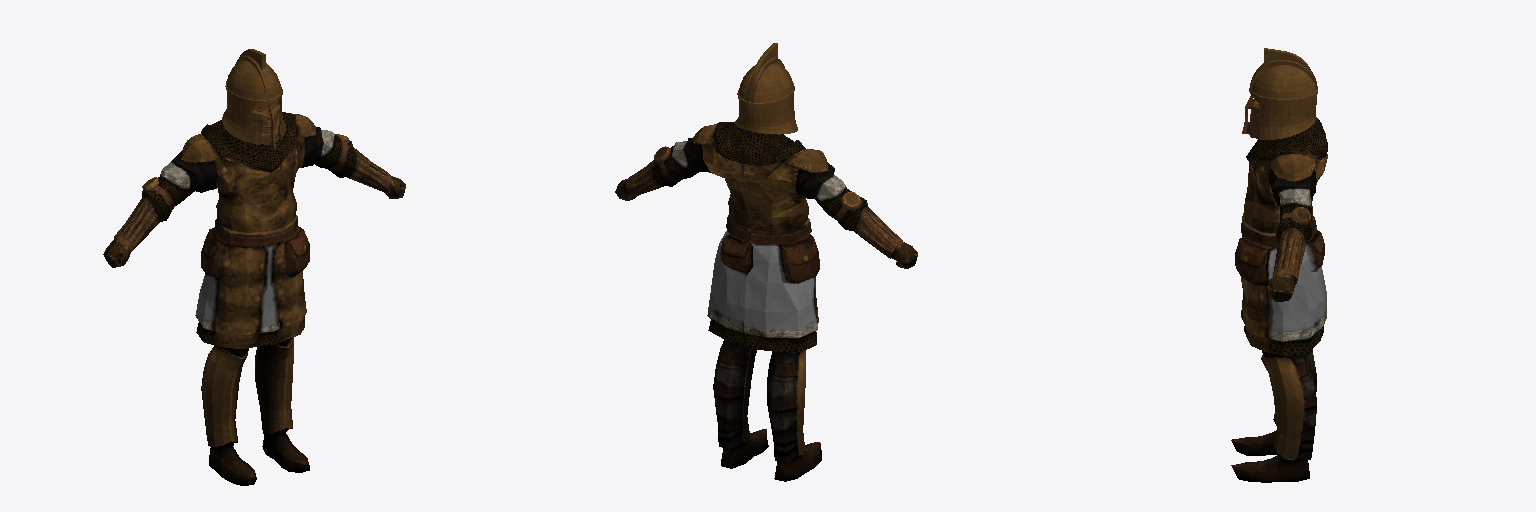
3 views of the same model, side by side, from view 1: azimuth 30°, elevation 25°; view 2: azimuth 150°, elevation 25°; view 3: azimuth 270°, elevation 25° (orthographic).
Visible parts, largest first — view 1: Lowpoly_LowpolyShape; view 2: Lowpoly_LowpolyShape; view 3: Lowpoly_LowpolyShape.
Part boxes in pixels (left/top/right/bottom): Lowpoly_LowpolyShape: left=103, top=49, right=405, bottom=485; Lowpoly_LowpolyShape: left=615, top=43, right=917, bottom=481; Lowpoly_LowpolyShape: left=1231, top=48, right=1327, bottom=482.
Size of the model in its own units: 12.78 by 16.97 by 3.61.
Materials: 1 (1 with a texture image).